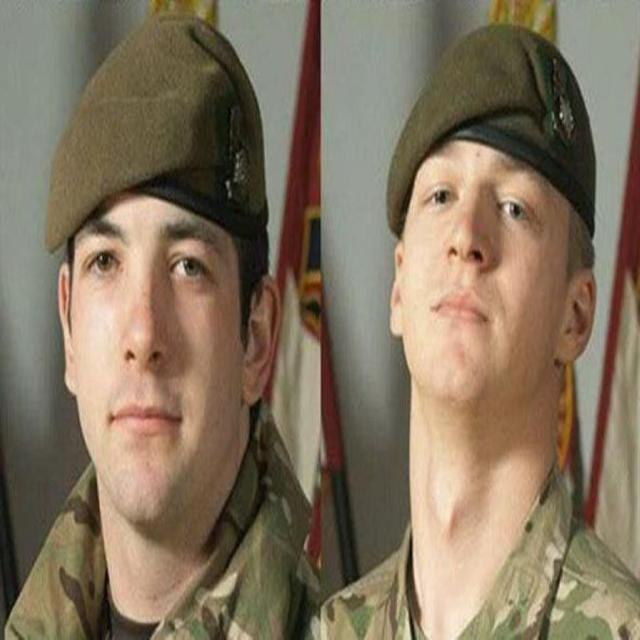Face: (53, 205, 265, 548), (399, 141, 579, 408)
